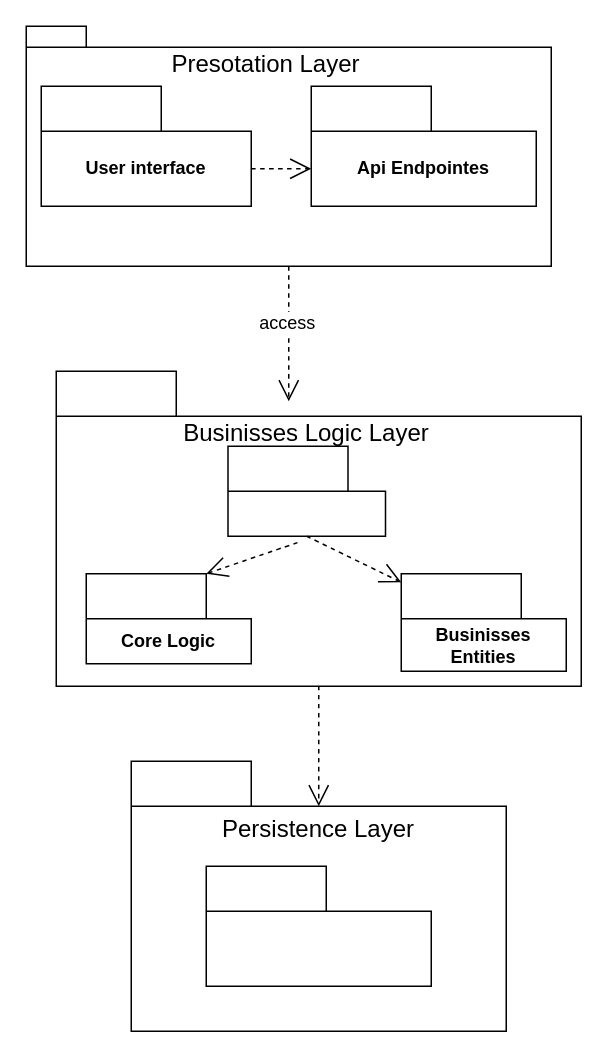
Image size: 608x1058. Some labels were removed from this diagram. Here are the shapes that lost their labels. From the top down, the box of each, then its label:
(226, 445, 386, 536): Facade Pattern
(205, 865, 431, 986): Database storage
